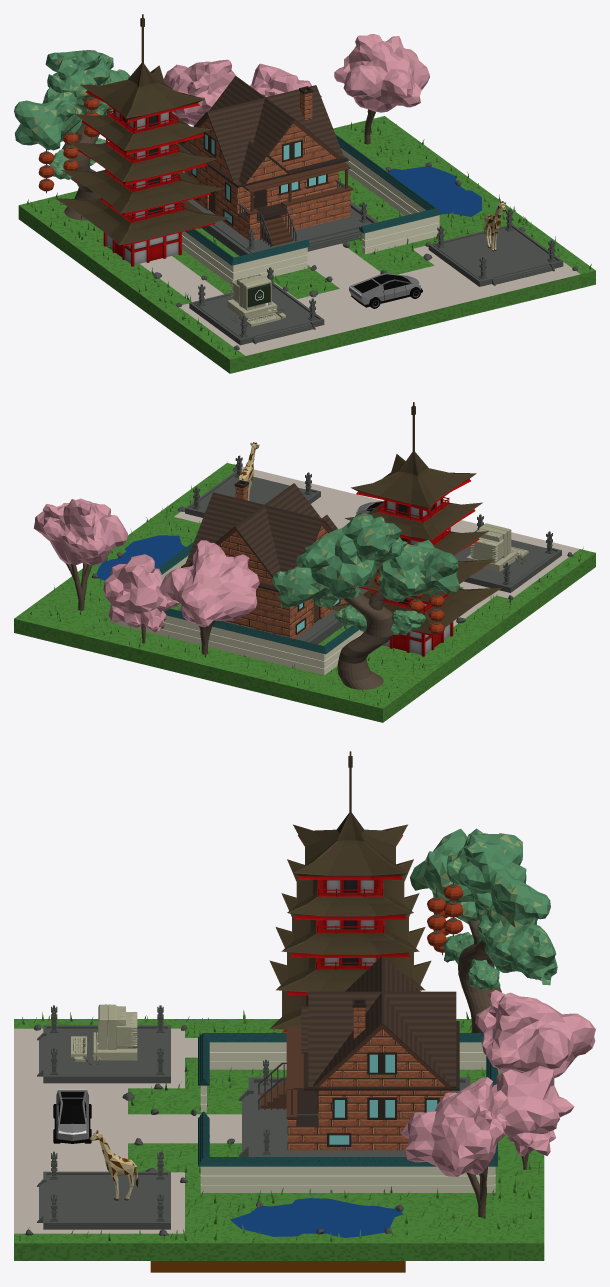
3 views of the same model, one above another, from view 1: azimuth 30°, elevation 25°; view 2: azimuth 150°, elevation 25°; view 3: azimuth 270°, elevation 25° (orthographic). The views are drawn at different scales.
Parts seen in each view (by area): view 1: Cube.005, Cube.469, OBJRANDOM_RETRO_PC, VEHICLES_CYBERTRUCK, ANIMAL_JIRAFA; view 2: Cube.005, Cube.469, OBJRANDOM_RETRO_PC; view 3: Cube.005, Cube.469, UNDERGROUND_ART_PIECE_VAN_GOGH, OBJRANDOM_RETRO_PC, VEHICLES_CYBERTRUCK, ANIMAL_JIRAFA.
Part boxes in pixels (x1,y1,x2,y2): Cube.005: (14, 14, 595, 373); Cube.469: (178, 76, 353, 247); OBJRANDOM_RETRO_PC: (227, 274, 285, 326); VEHICLES_CYBERTRUCK: (349, 273, 422, 308); ANIMAL_JIRAFA: (484, 201, 506, 251); Cube.005: (14, 402, 595, 722); Cube.469: (181, 480, 345, 638); OBJRANDOM_RETRO_PC: (466, 523, 528, 571); Cube.005: (14, 751, 595, 1260); Cube.469: (258, 956, 459, 1150); UNDERGROUND_ART_PIECE_VAN_GOGH: (150, 1261, 405, 1272); OBJRANDOM_RETRO_PC: (71, 1004, 137, 1064); VEHICLES_CYBERTRUCK: (53, 1089, 91, 1143); ANIMAL_JIRAFA: (89, 1130, 138, 1200).
Bounding box in the file's own units: 4528 × 2816 × 4389.
39 materials, 7 textured.
